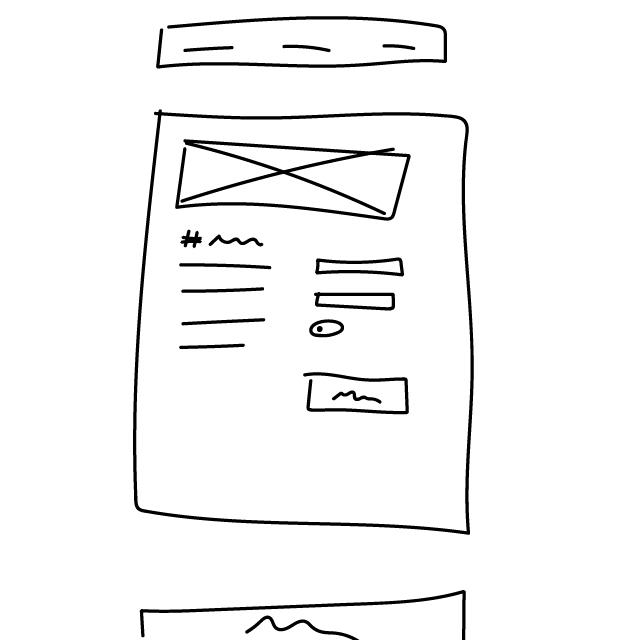button: (299, 365, 414, 423)
checkbox: (309, 316, 350, 342)
container: (120, 103, 483, 545)
footer: (127, 587, 474, 640)
frame: (178, 133, 414, 227)
heading: (179, 226, 268, 258)
input: (314, 257, 408, 284), (312, 288, 401, 315)
nav: (153, 14, 449, 74)
text: (176, 259, 283, 360)
